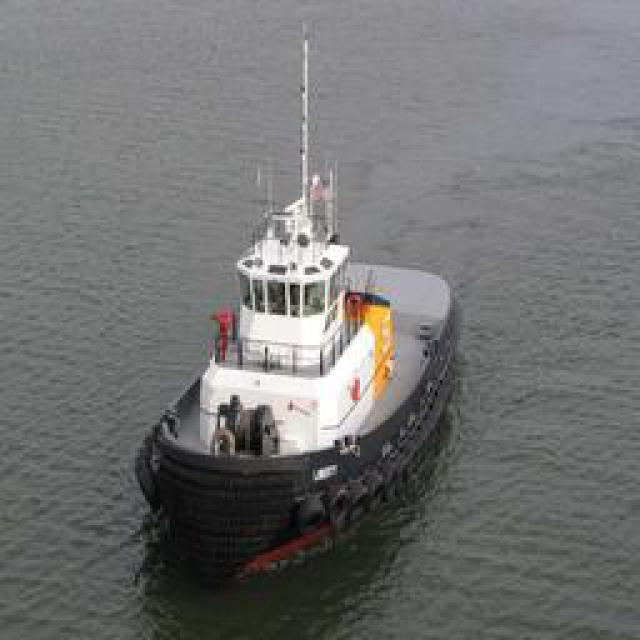Ship: (130, 129, 463, 589)
